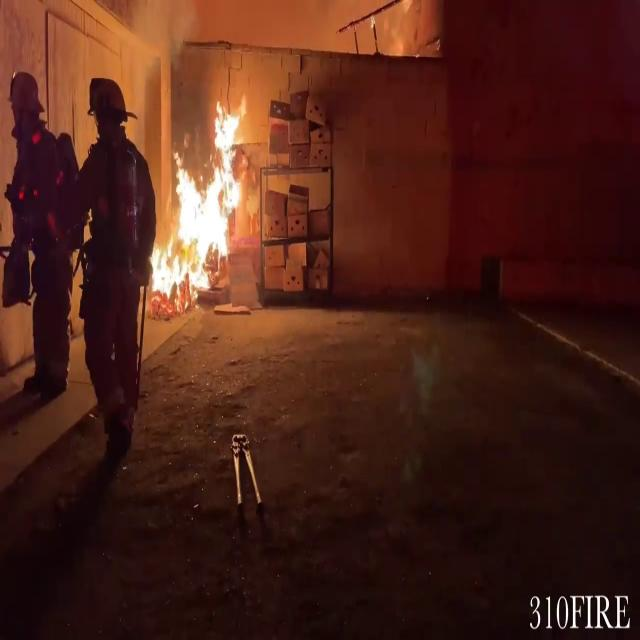Fire: (154, 86, 249, 302)
